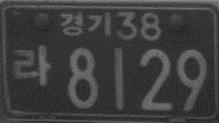1: (105, 46, 135, 110)
2: (138, 47, 172, 111)
3: (115, 10, 138, 41)
8: (67, 46, 99, 109), (139, 11, 162, 42)
9: (175, 48, 207, 111)
경기_O: (59, 12, 112, 37)
라: (10, 44, 50, 87)
